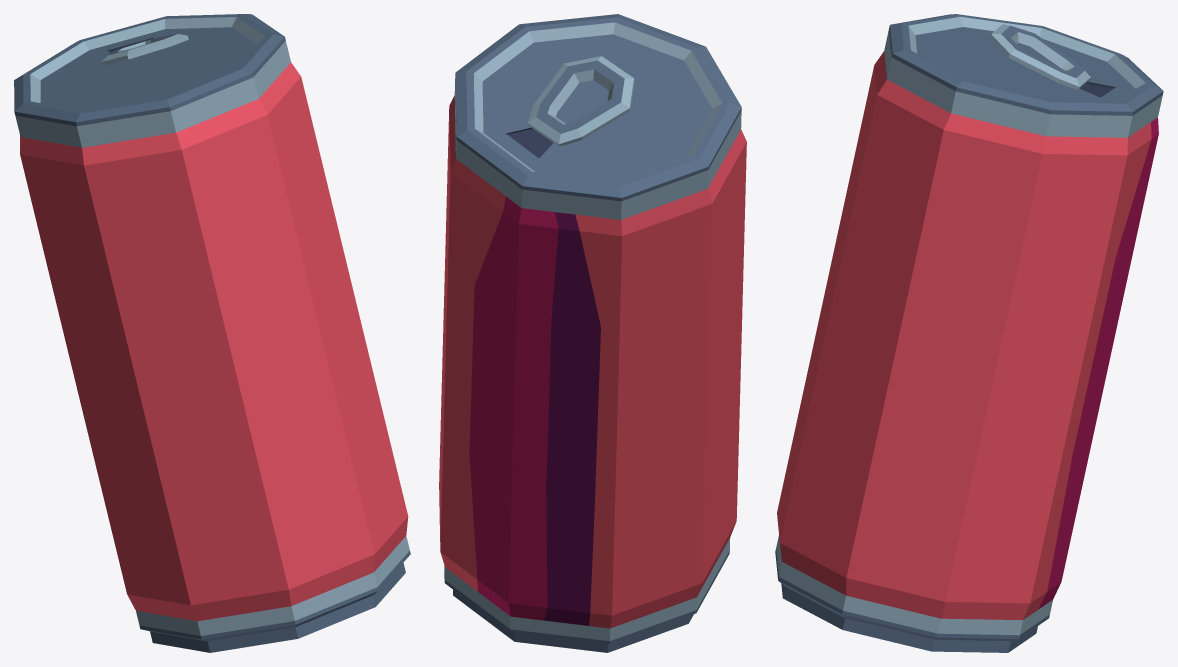
The model's file is DrSwerve.Coolie.fbx.
3 views of the same model, side by side, from view 1: azimuth 30°, elevation 25°; view 2: azimuth 150°, elevation 25°; view 3: azimuth 270°, elevation 25° (orthographic). The views are drawn at different scales.
Parts seen in each view (by area): view 1: DrSwerve.Coolie; view 2: DrSwerve.Coolie; view 3: DrSwerve.Coolie.
Boxes of the visible parts, x1,y1,x2,y2 form: DrSwerve.Coolie: (14, 14, 410, 652); DrSwerve.Coolie: (439, 14, 746, 652); DrSwerve.Coolie: (775, 14, 1163, 652).
Size of the model in its own units: 39.96 by 70.37 by 43.16.
